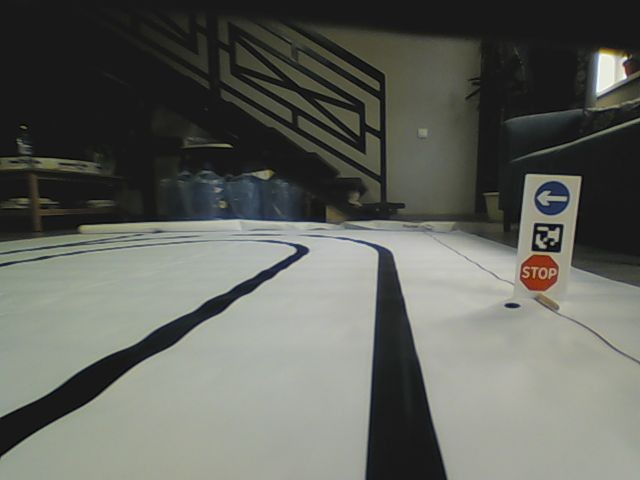Stop: (517, 253, 561, 295)
